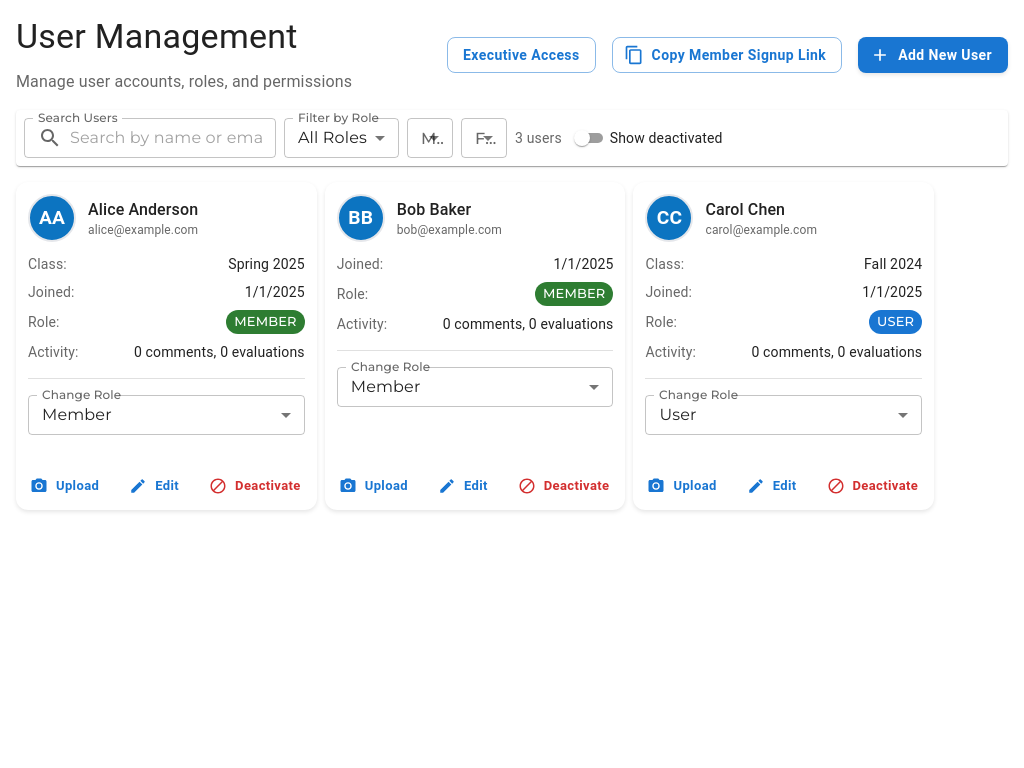
Test case: UserManagement graduation class filter › filters by a known graduation class
Expected: the heading "Alice Anderson" is shown, 88,200 -> 198,218
Press the mouse on the dropdown next to "Filter by Class" at (484, 138), box 461,118 -> 507,158
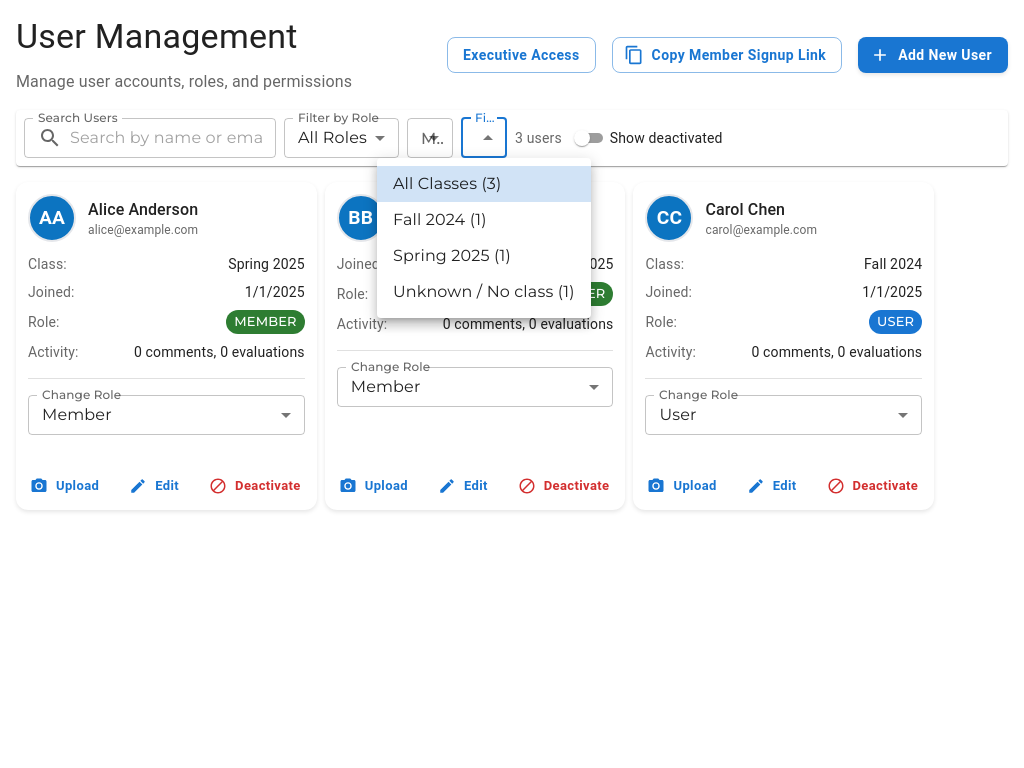
Click the option "Spring 2025 (1)" at (452, 256), box 393,246 -> 511,265
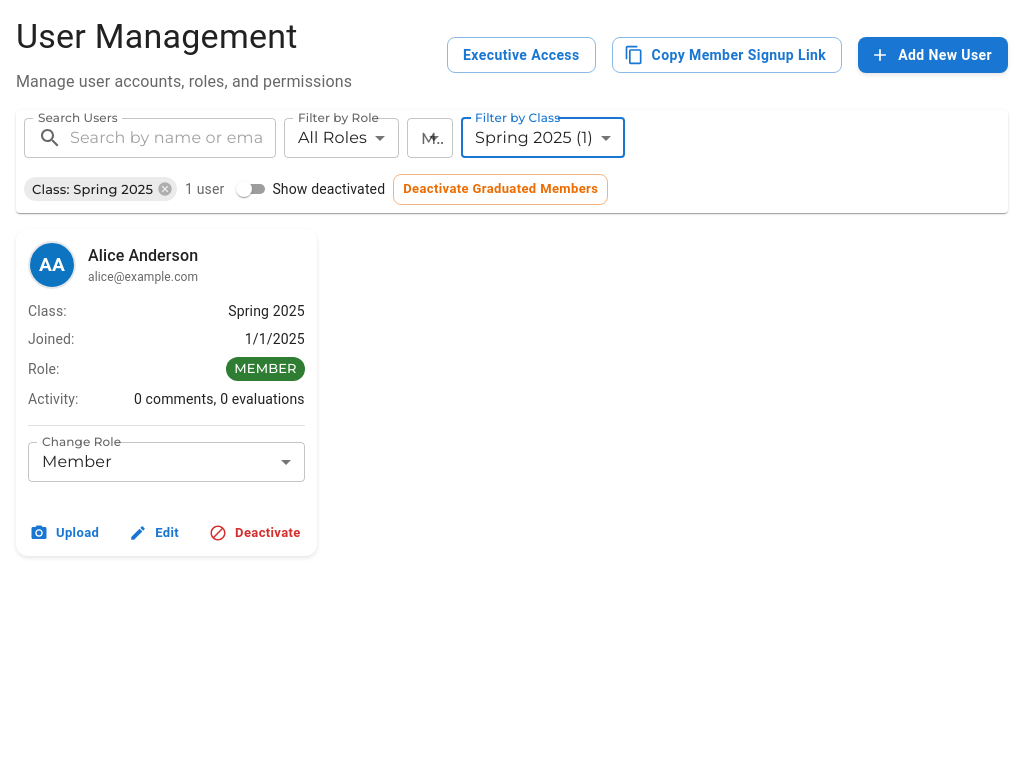
Expected: the heading "Alice Anderson" is shown, 88,246 -> 198,265
Result: the heading "Bob Baker" is gone
Result: the heading "Carol Chen" is gone
